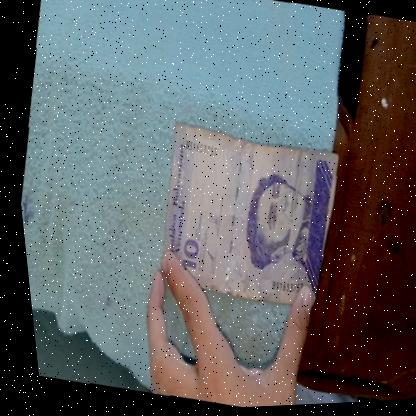ten-front-vef: (136, 115, 349, 320)
